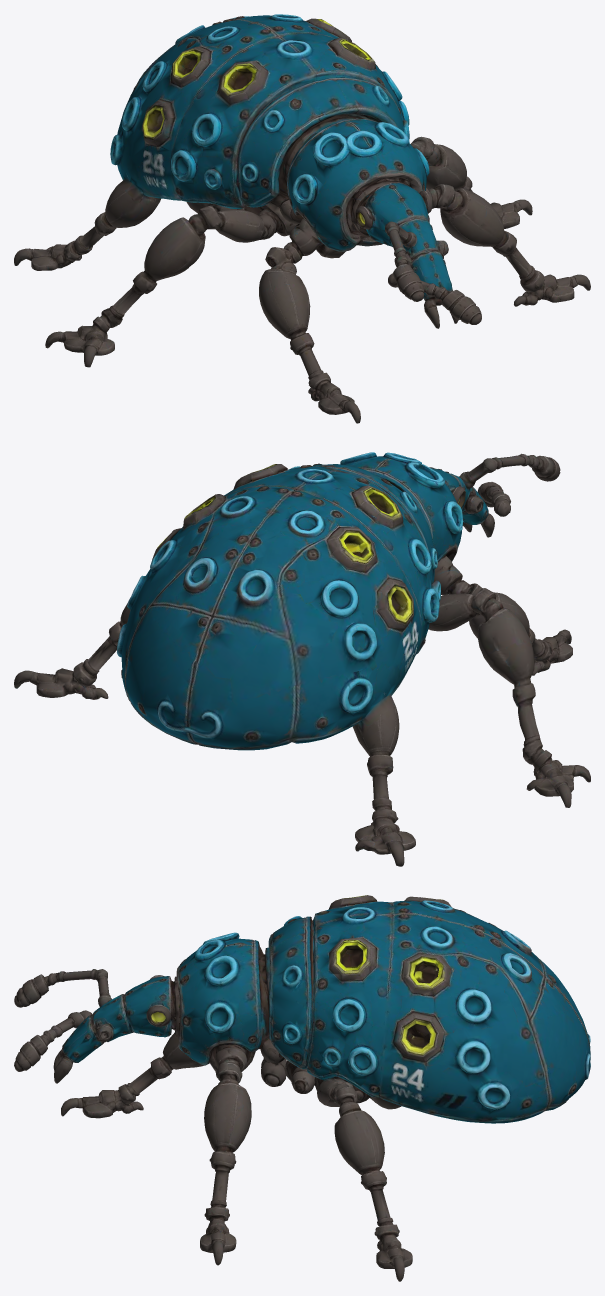
File: weevil.glb
The picture shows the model from 3 angles, top to bottom: view 1: azimuth 30°, elevation 25°; view 2: azimuth 150°, elevation 25°; view 3: azimuth 270°, elevation 25°; orthographic projection. The views are drawn at different scales.
Size of the model in its own units: 3.38 by 1.6 by 3.4.
Materials: 1 (1 with a texture image).
